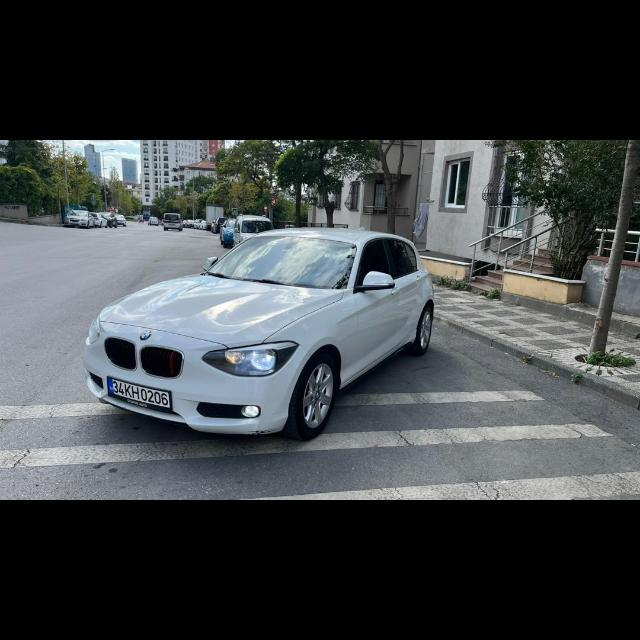Plaka: (107, 377, 169, 408)
